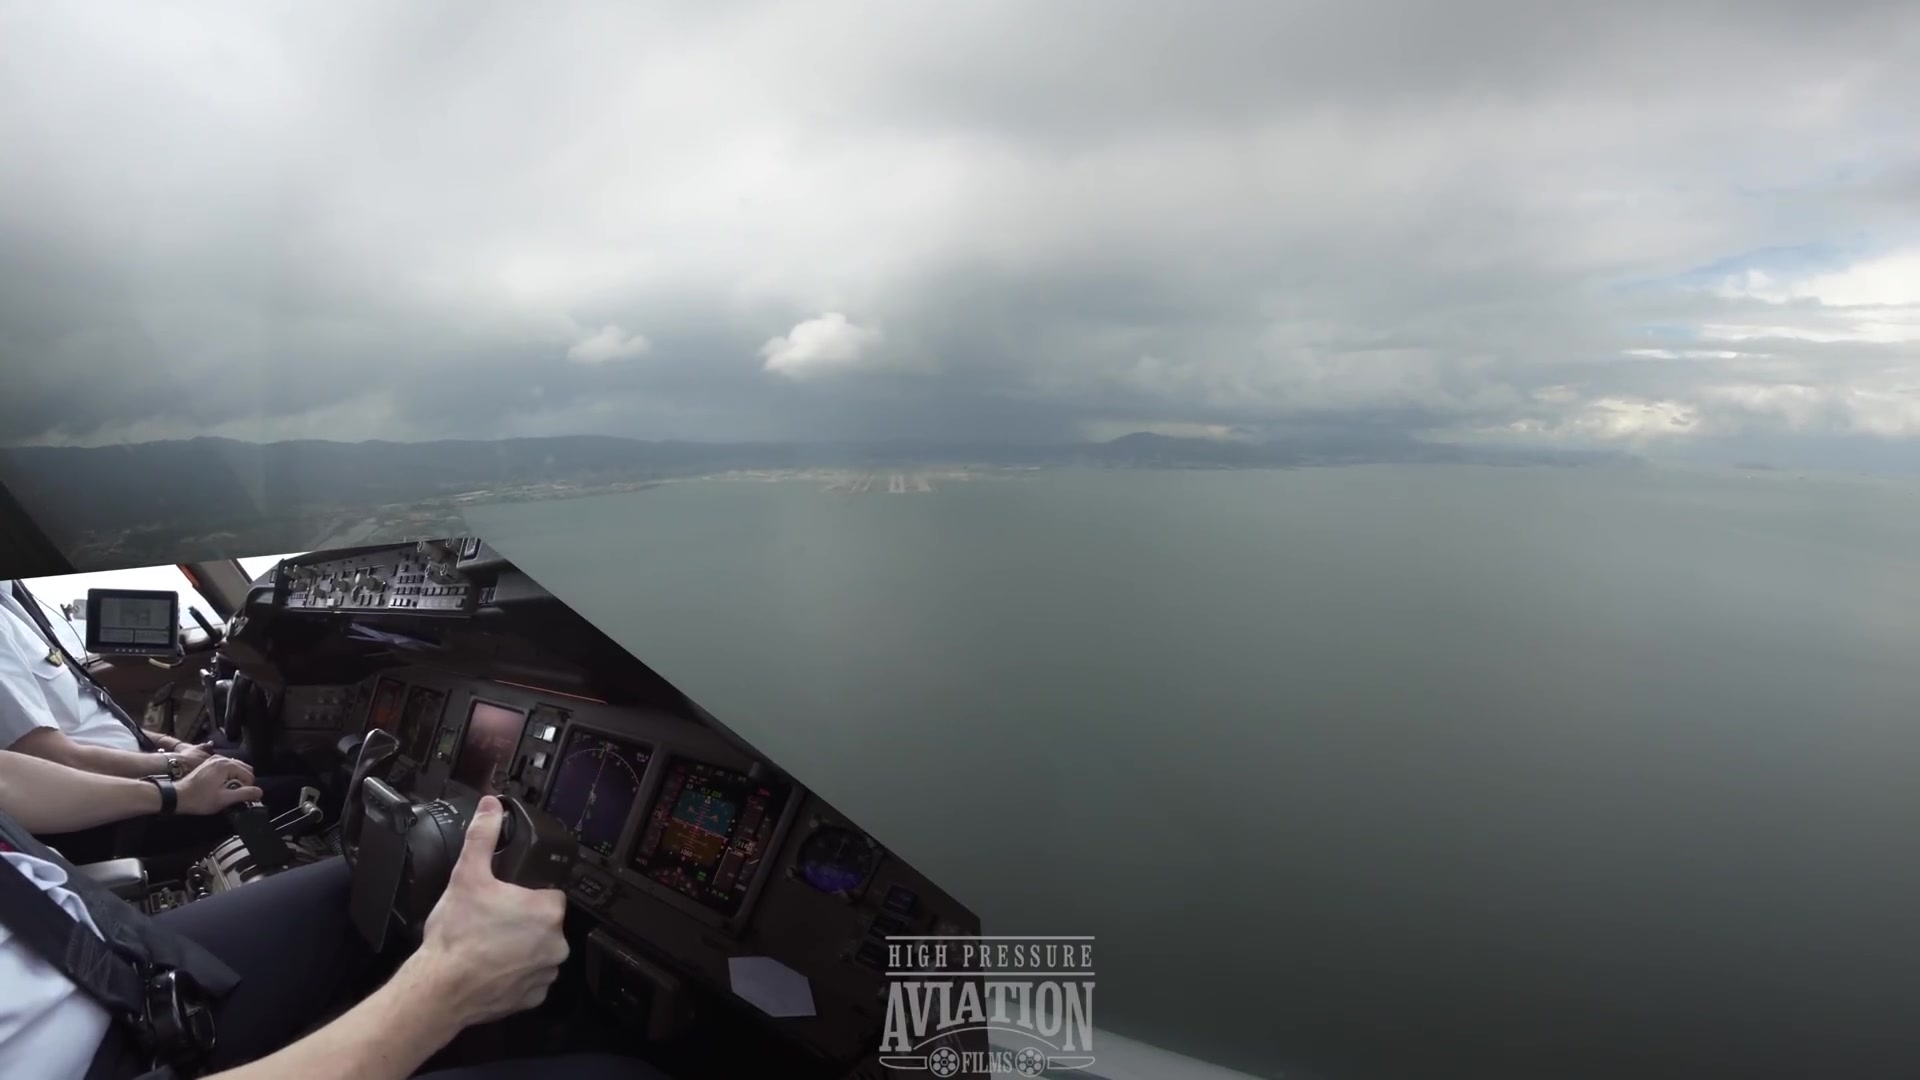runway: (910, 469, 931, 491), (886, 473, 906, 495)
